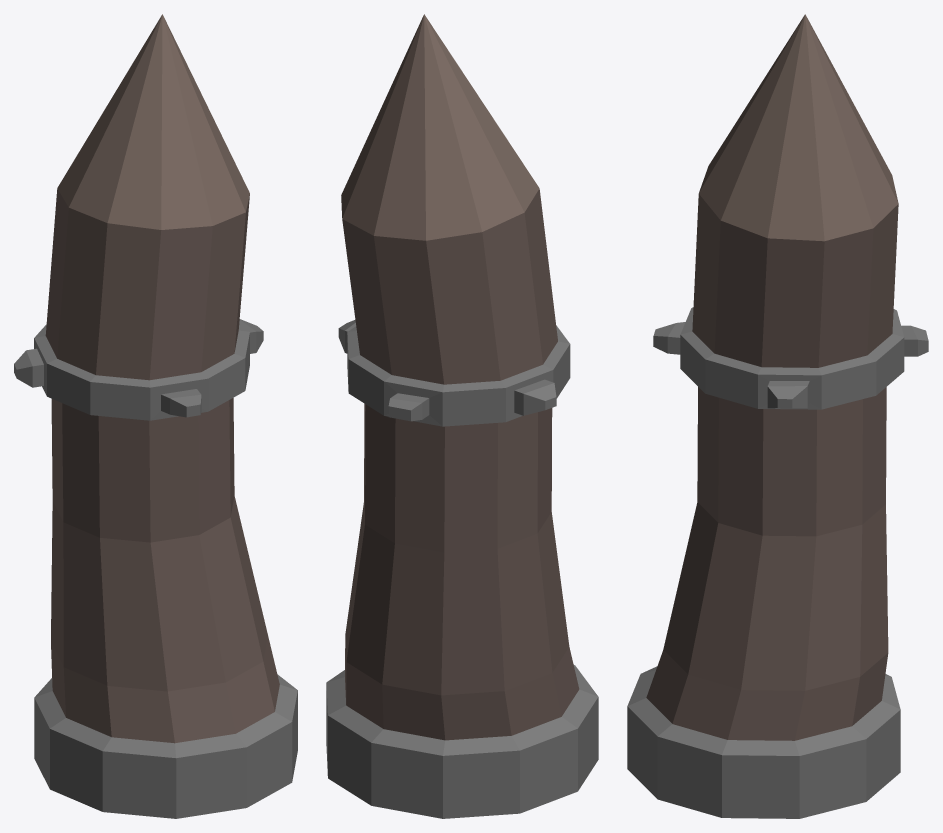
File: FatSpike.fbx
3 views of the same model, side by side, from view 1: azimuth 30°, elevation 25°; view 2: azimuth 150°, elevation 25°; view 3: azimuth 270°, elevation 25° (orthographic). The views are drawn at different scales.
Parts seen in each view (by area): view 1: FatSpike; view 2: FatSpike; view 3: FatSpike.
Boxes of the visible parts, x1=… form: FatSpike: x1=14, y1=14, x2=297, y2=818; FatSpike: x1=326, y1=14, x2=598, y2=818; FatSpike: x1=627, y1=14, x2=928, y2=818.
Size of the model in its own units: 154 by 460 by 166.
